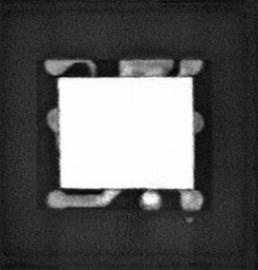DIE_INK: (183, 214, 195, 224)
